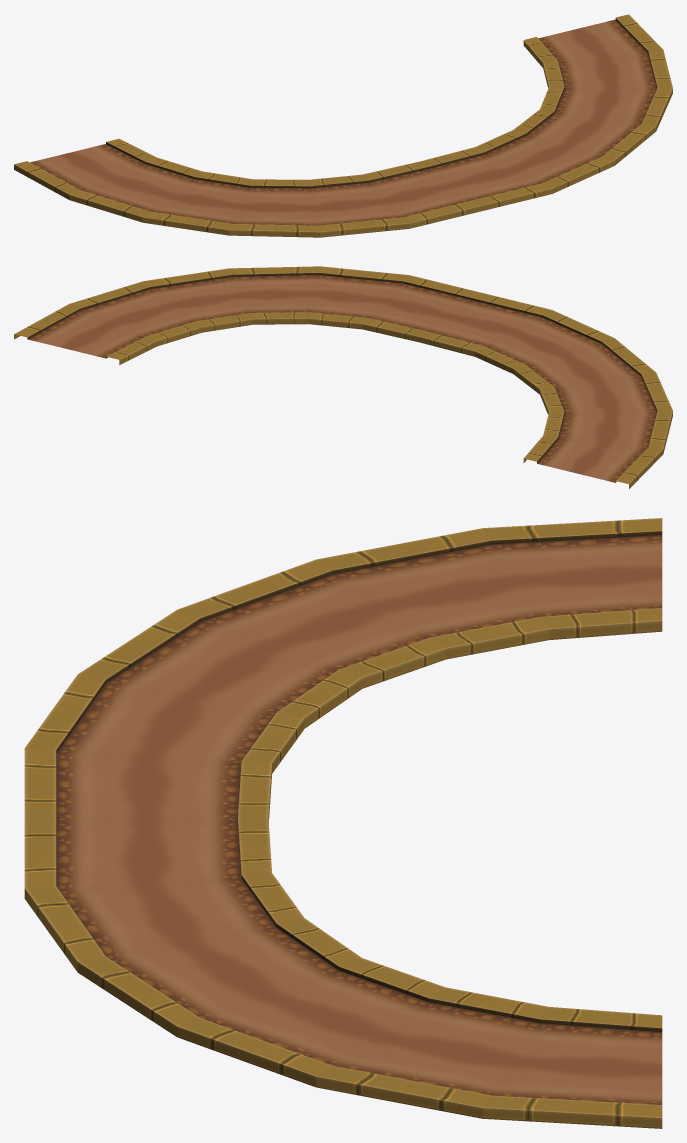
File: RoadPiece_08.FBX
The picture shows the model from 3 angles, top to bottom: view 1: azimuth 30°, elevation 25°; view 2: azimuth 150°, elevation 25°; view 3: azimuth 270°, elevation 25°; orthographic projection. The views are drawn at different scales.
Parts seen in each view (by area): view 1: RoadPiece_08; view 2: RoadPiece_08; view 3: RoadPiece_08.
Part boxes in pixels (<box>): RoadPiece_08: <box>14,14,672,237</box>; RoadPiece_08: <box>14,266,672,488</box>; RoadPiece_08: <box>24,518,662,1128</box>.
Size of the model in its own units: 9.52 by 0.0795 by 4.28.
